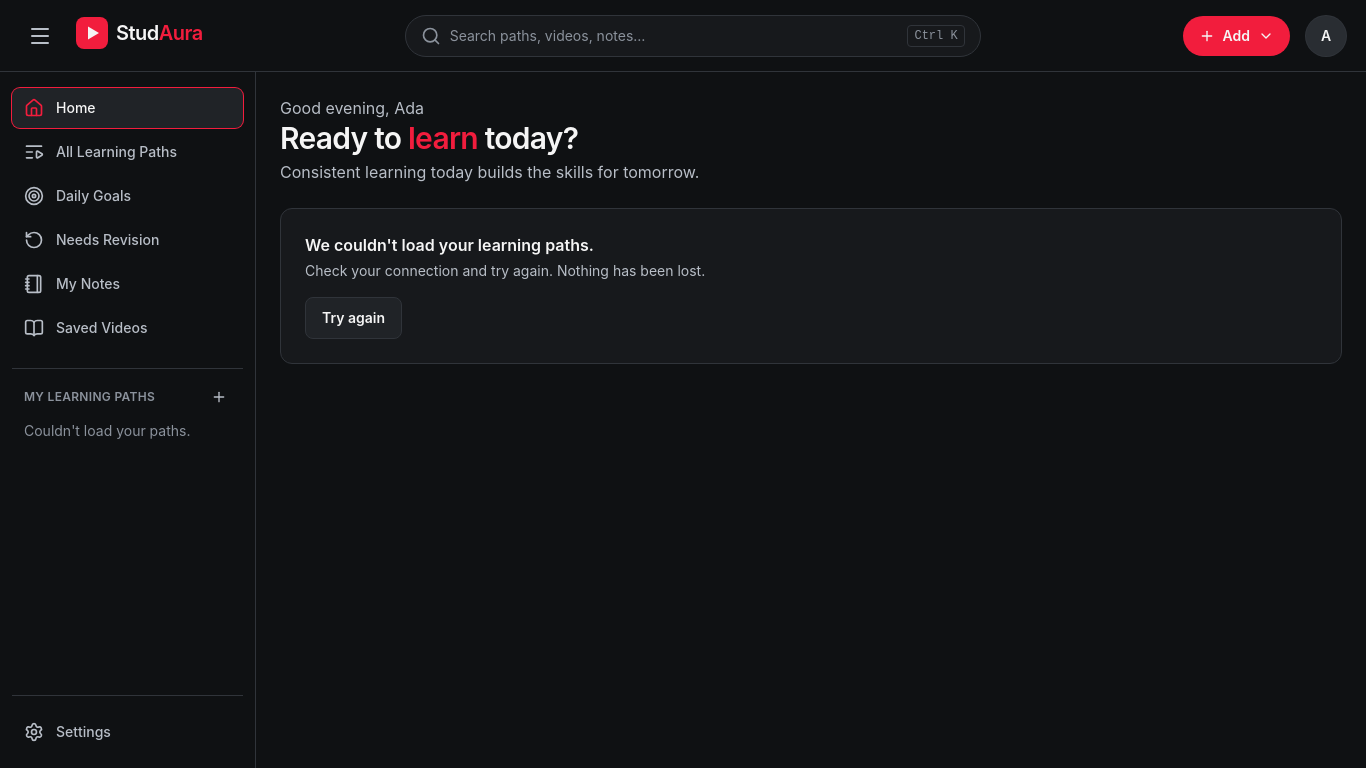
Test case: dashboard › shows a recoverable error and retries
Expected: the message shows "couldn't load your learning paths", left=305, top=235, right=594, bottom=255
Click the button "Try again" at (354, 318), box left=305, top=297, right=402, bottom=339
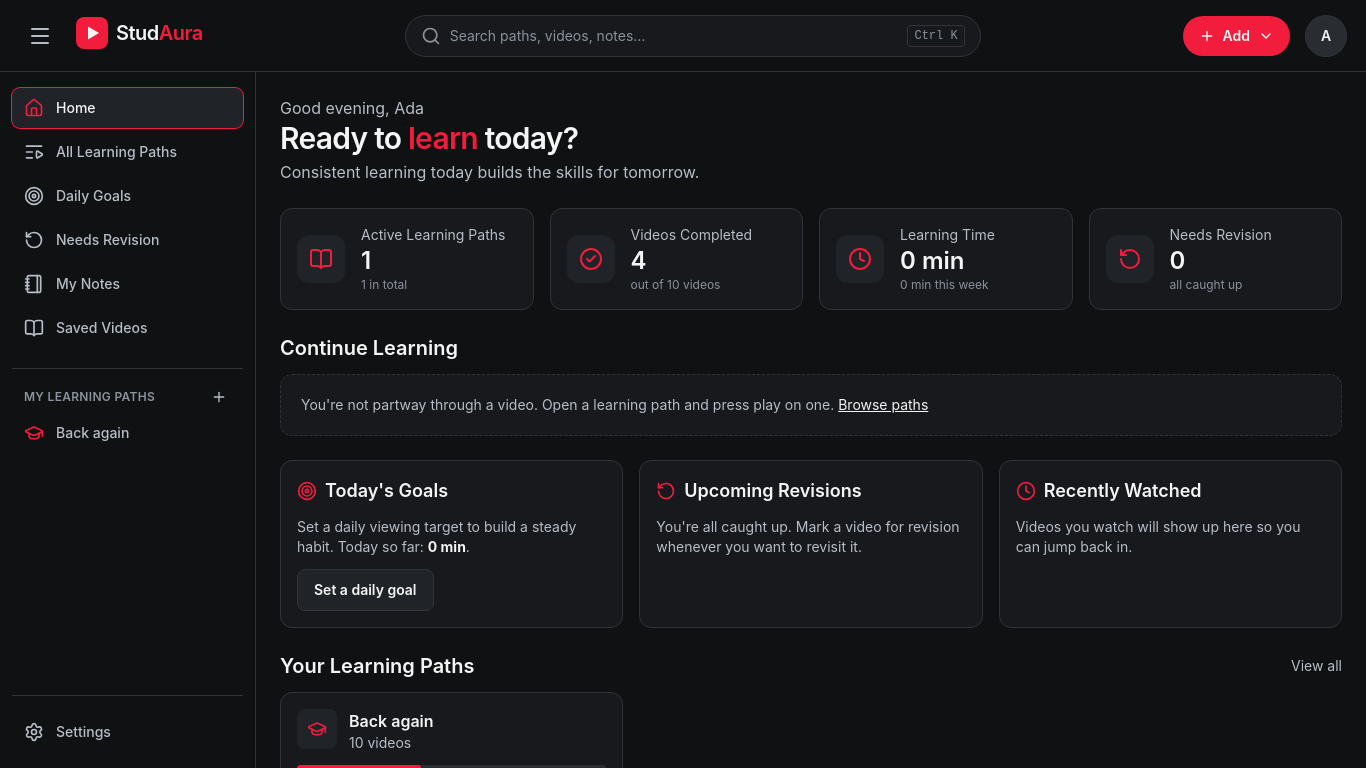
Expected: the heading "Back again" is shown, left=349, top=711, right=434, bottom=731
Expected: the message is gone
